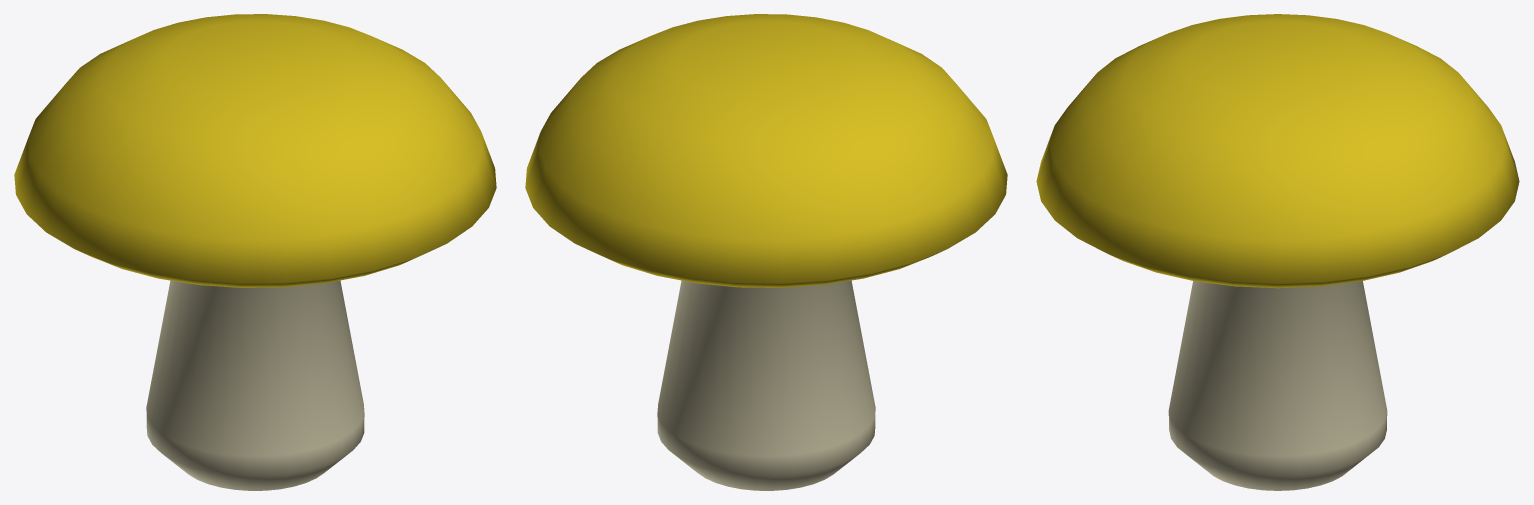
File: yellow_shroom.fbx
3 renders of one model, left to right at view 1: azimuth 30°, elevation 25°; view 2: azimuth 150°, elevation 25°; view 3: azimuth 270°, elevation 25°, orthographic.
Visible parts, largest first — view 1: Yellow_Shroom; view 2: Yellow_Shroom; view 3: Yellow_Shroom.
Boxes of the visible parts, x1=… form: Yellow_Shroom: x1=14, y1=14, x2=496, y2=490; Yellow_Shroom: x1=525, y1=14, x2=1007, y2=490; Yellow_Shroom: x1=1036, y1=14, x2=1519, y2=490.
Bounding box in the file's own units: 299 × 285 × 299.
